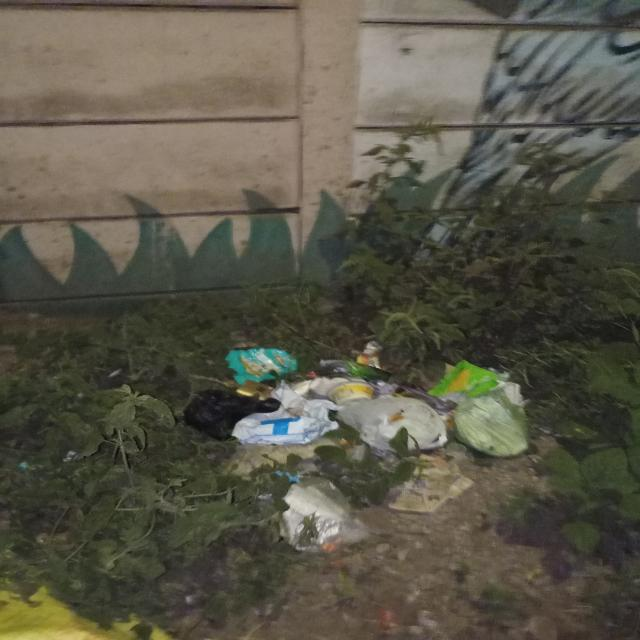garbage: (194, 338, 556, 582)
